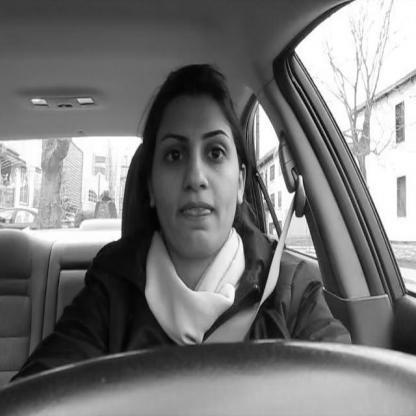seatbelt: (124, 38, 312, 344)
